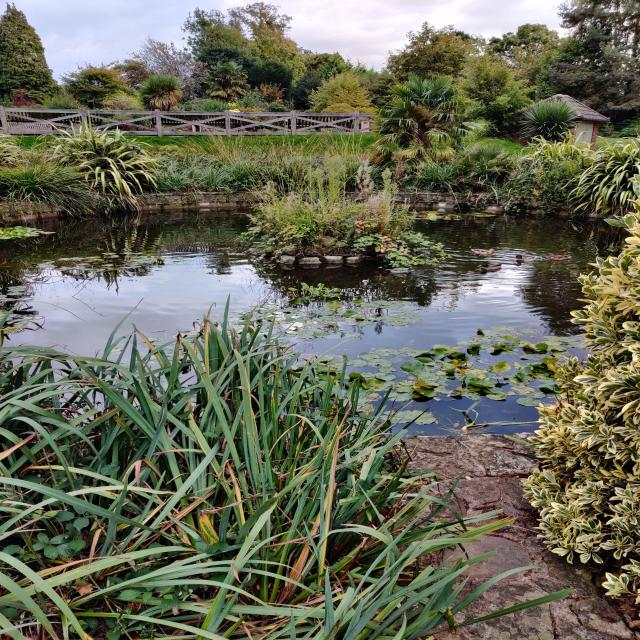litter: (572, 122, 594, 154)
